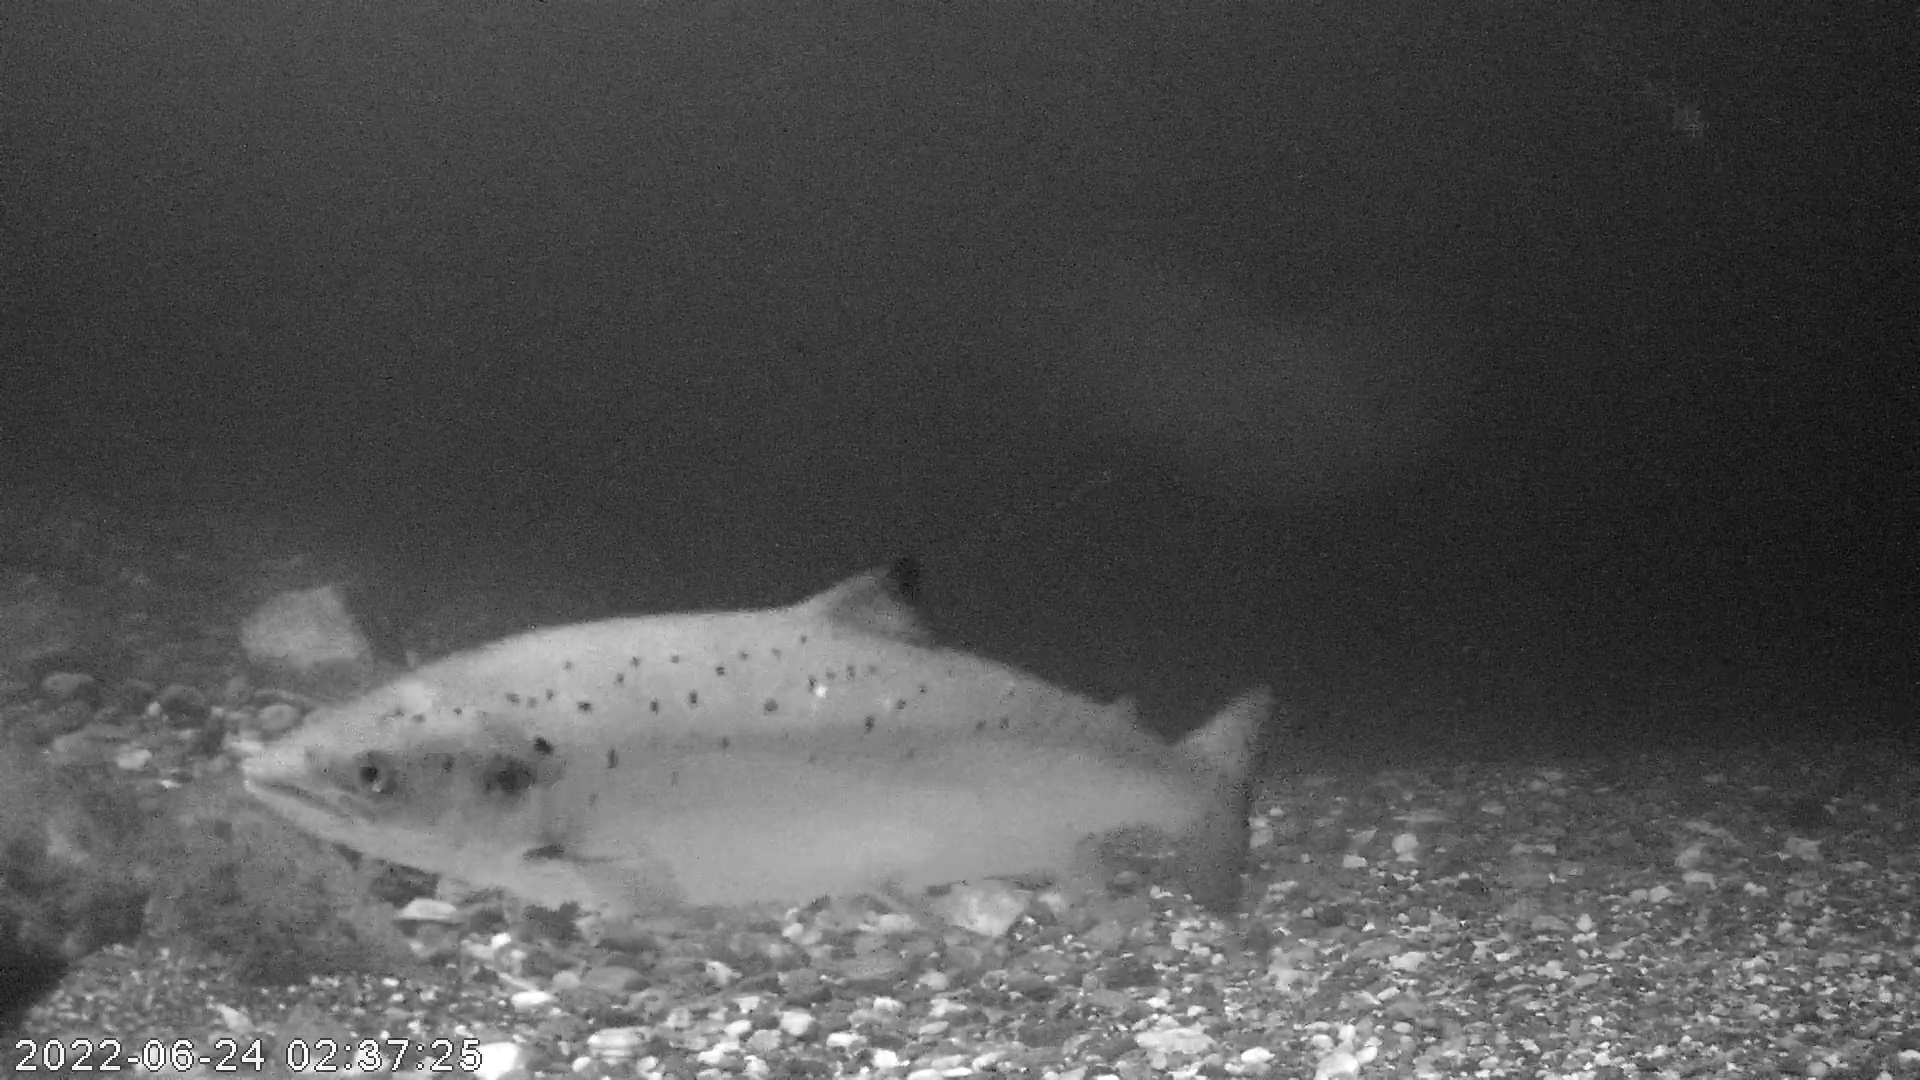salmon: (233, 547, 1288, 928)
